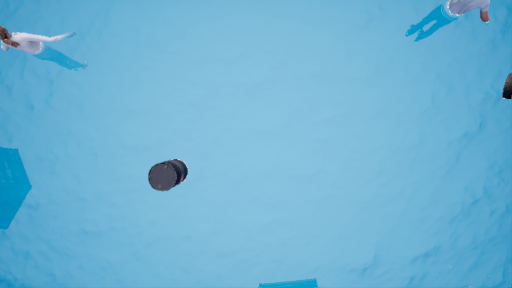person: (2, 22, 90, 66)
